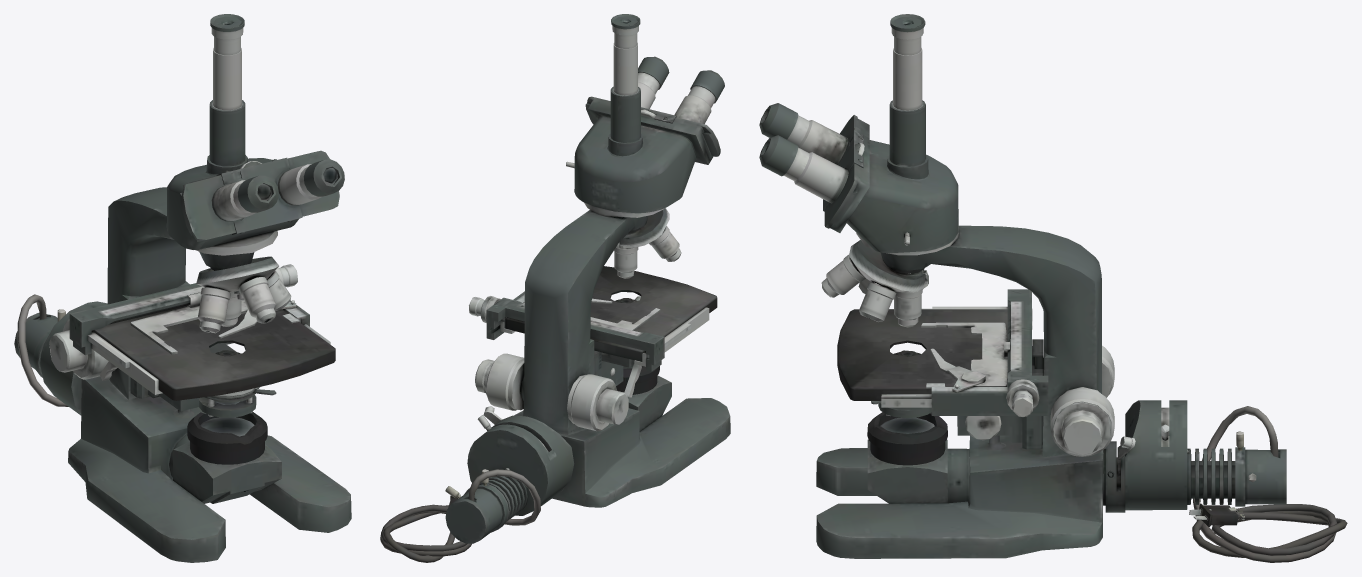
The model's file is industrial_microscope.glb.
The picture shows the model from 3 angles, left to right: view 1: azimuth 30°, elevation 25°; view 2: azimuth 150°, elevation 25°; view 3: azimuth 270°, elevation 25°; orthographic projection. The views are drawn at different scales.
Parts seen in each view (by area): view 1: industrial_microscope_cable; view 2: industrial_microscope_cable; view 3: industrial_microscope_cable.
Boxes of the visible parts, x1,y1,x2,y2 form: industrial_microscope_cable: (14,14,351,562); industrial_microscope_cable: (380,14,730,562); industrial_microscope_cable: (759,14,1347,562).
Bounding box in the file's own units: 0.2145 × 0.4617 × 0.4981.
1 material, 1 textured.
